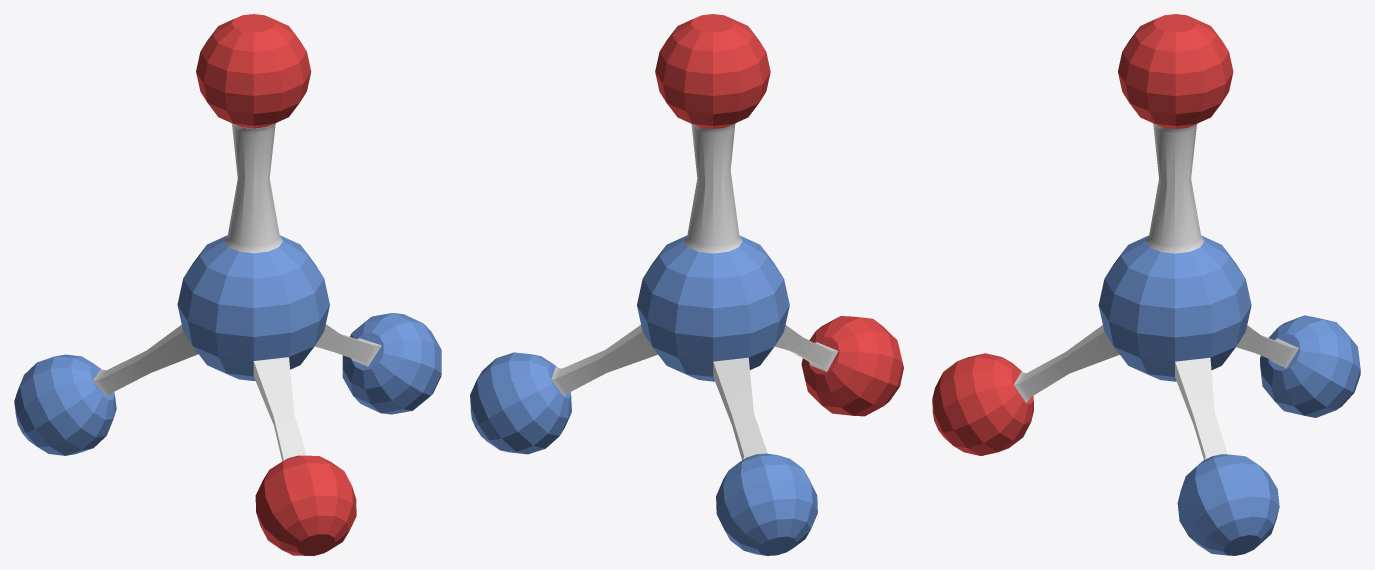
The model's file is Molocule_2.fbx.
3 renders of one model, left to right at view 1: azimuth 30°, elevation 25°; view 2: azimuth 150°, elevation 25°; view 3: azimuth 270°, elevation 25°, orthographic.
Visible parts, largest first — view 1: Molocule_2; view 2: Molocule_2; view 3: Molocule_2.
Boxes of the visible parts, left/top/right/bottom form: Molocule_2: left=14, top=14, right=441, bottom=555; Molocule_2: left=470, top=14, right=903, bottom=555; Molocule_2: left=932, top=14, right=1360, bottom=555.
Bounding box in the file's own units: 13.56 × 15.51 × 13.42.
